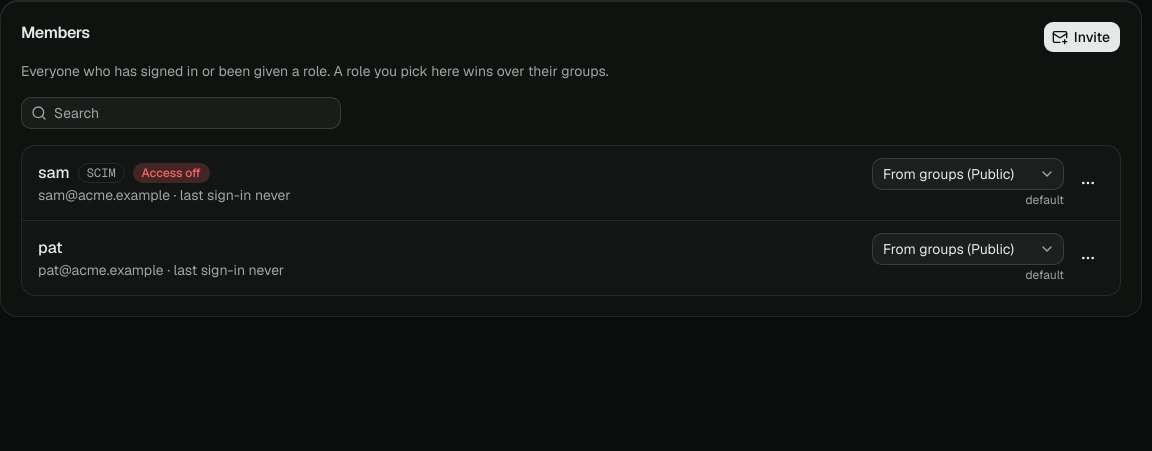
Test: MembersView: members SCIM manages › marks them, and leaves their access and removal to the identity provider
Expected: the text "sam" is shown, [38, 161, 70, 185]
Hover over the icon "SCIM" at [101, 173], box [78, 163, 125, 183]
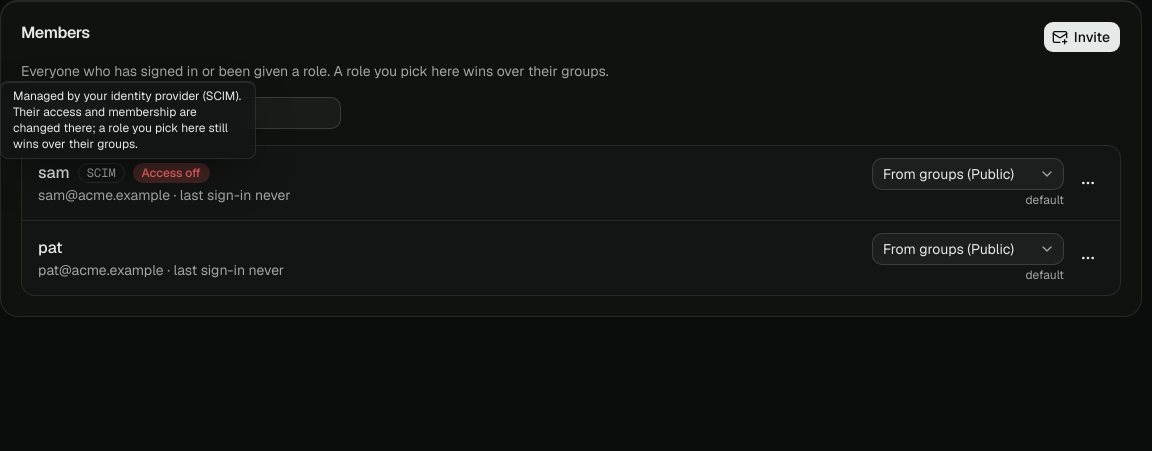
Now the tooltip "Managed by your identity provider (SCIM)" is shown, box [13, 88, 241, 152]
Click the button named "More for sam@acme.example" at [1088, 183], box [1072, 167, 1104, 199]
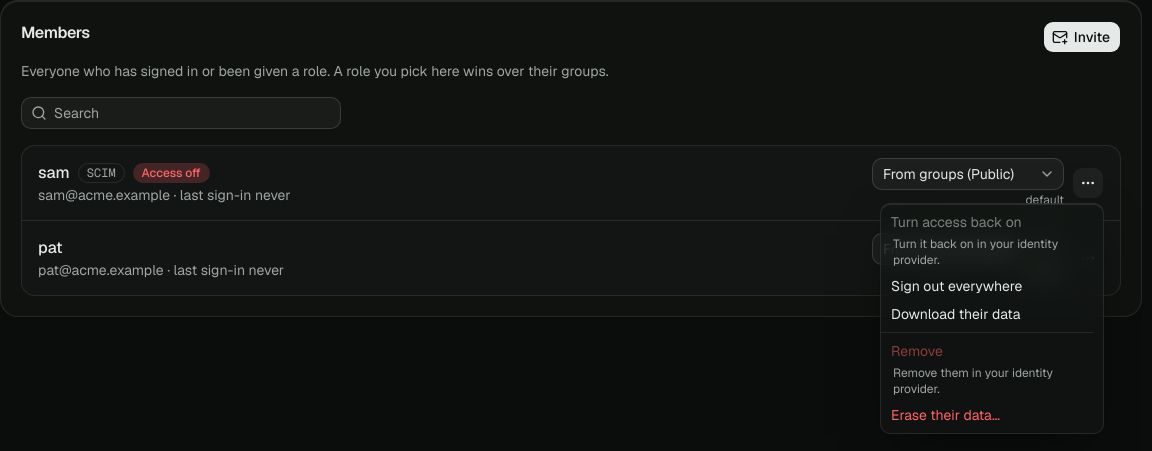
Now the text "Remove them in your identity provider." is shown, box [893, 365, 1053, 397]
